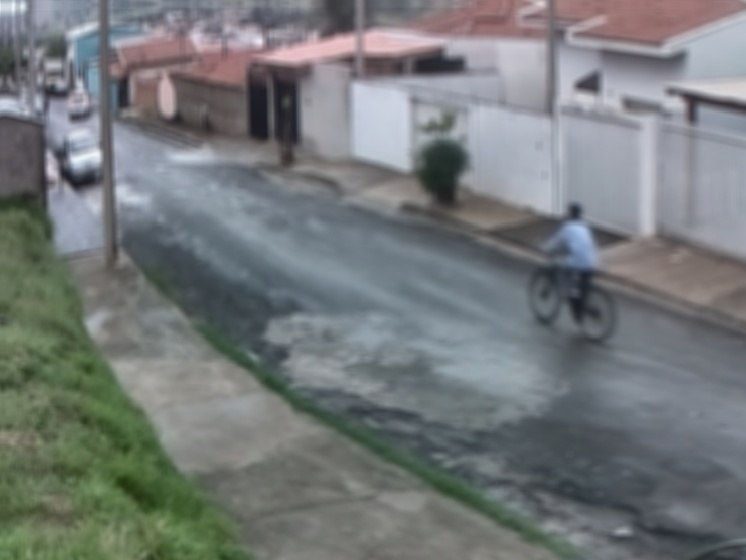person: (533, 198, 602, 328)
